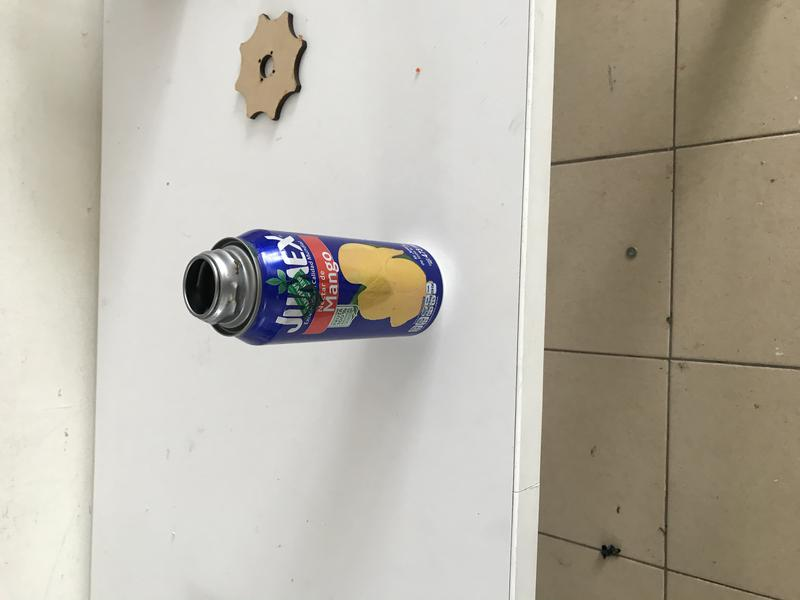jumex_botella: (183, 229, 443, 347)
